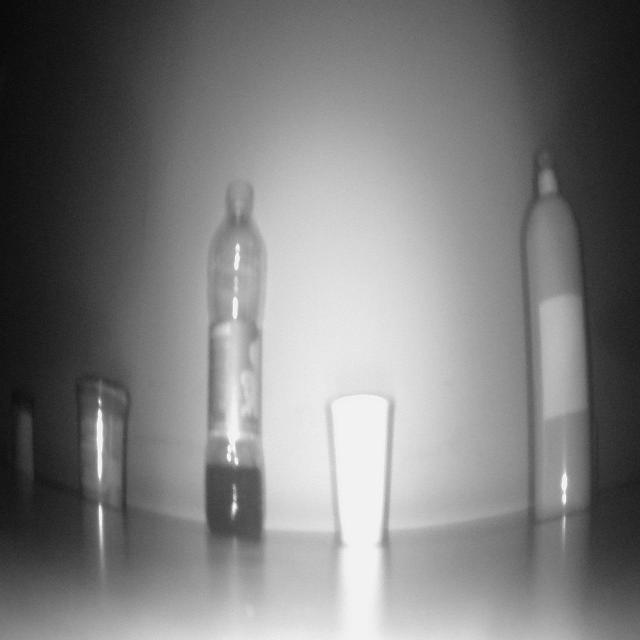targets: (518, 148, 596, 505), (206, 183, 265, 540), (327, 399, 392, 544), (73, 376, 128, 514), (16, 401, 35, 482)
